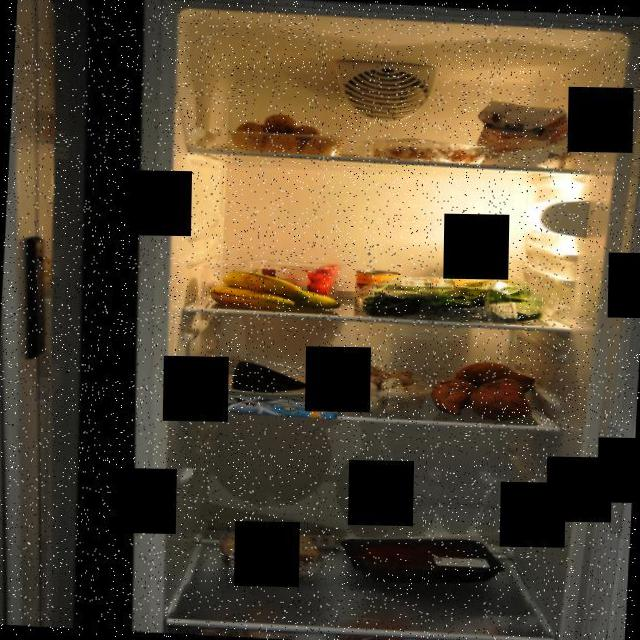Carne vacuno: (334, 530, 508, 590)
Champiñones: (334, 359, 428, 414)
Gambas/Langostinos: (371, 142, 487, 166)
Patata: (228, 109, 348, 158)
Plátano: (205, 266, 342, 312)
Queso: (228, 358, 311, 394)
